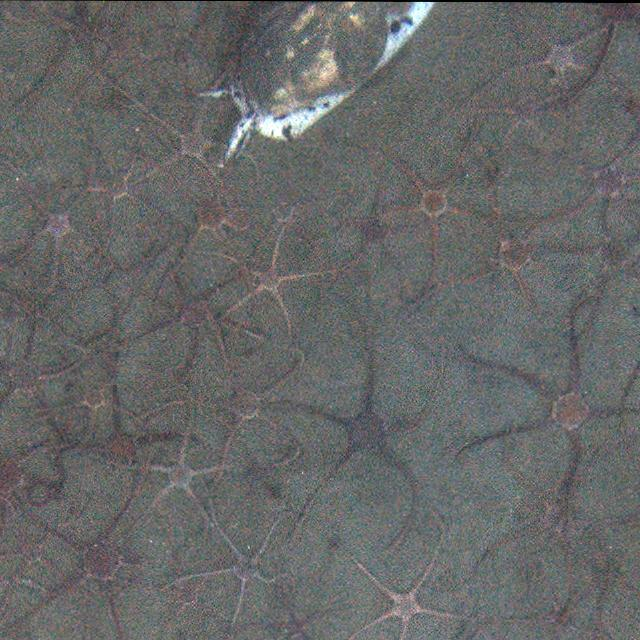whelk: (242, 0, 384, 110)
